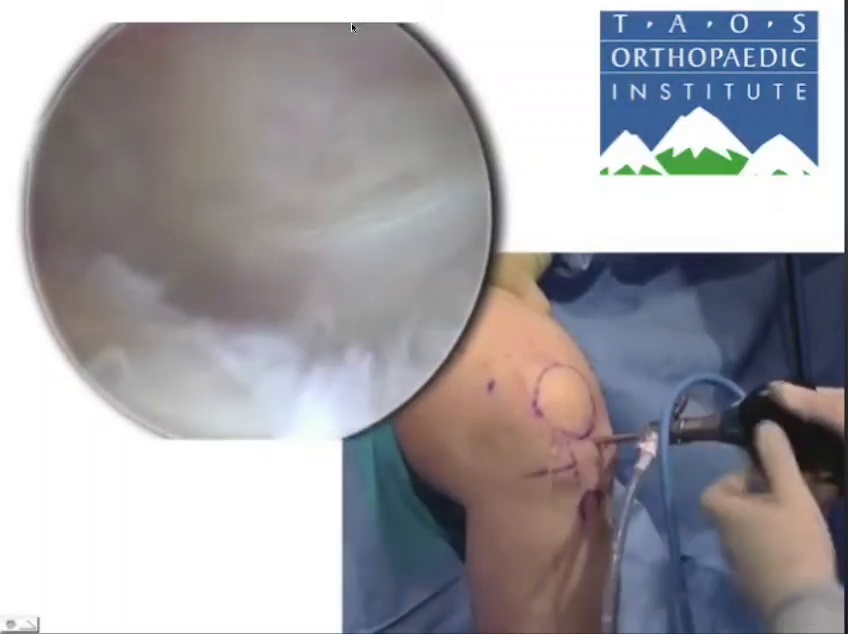arthroscope: (460, 269, 755, 634)
probe: (698, 412, 848, 634), (761, 372, 848, 440)
